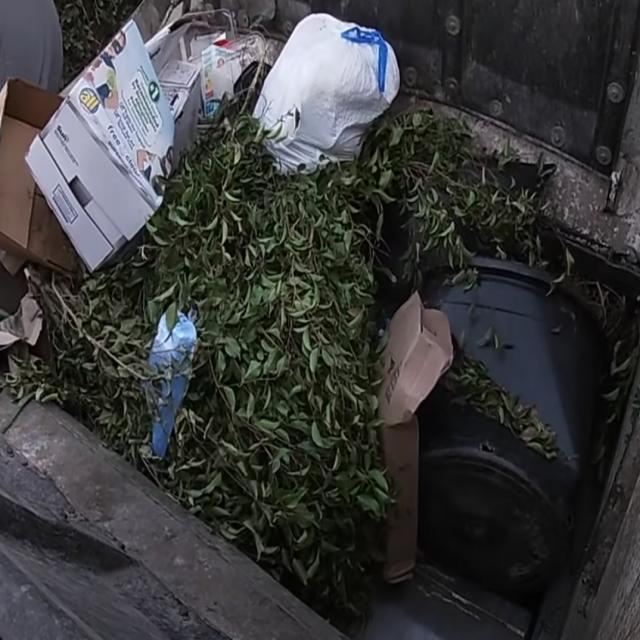bag: (253, 0, 402, 172)
cardboard: (0, 30, 187, 279), (368, 293, 444, 608)
plastic: (427, 264, 610, 614), (134, 310, 196, 468)
yard: (196, 172, 368, 584)
